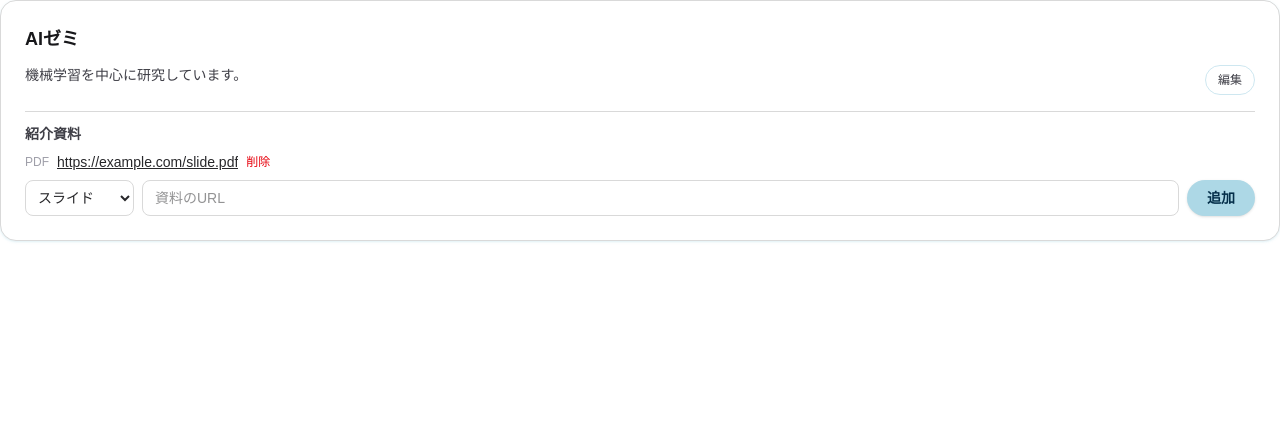
Test: TeacherSeminarView › cancels editing without saving
Click the button "編集": [1230, 80] box [1205,65,1255,95]
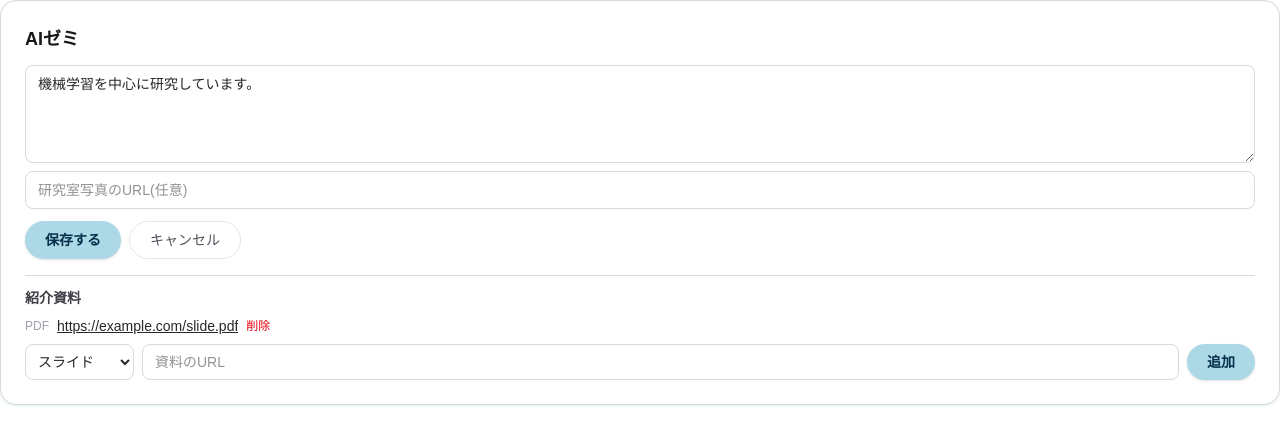
Click the button "キャンセル": [185, 240] box [129,221,241,259]
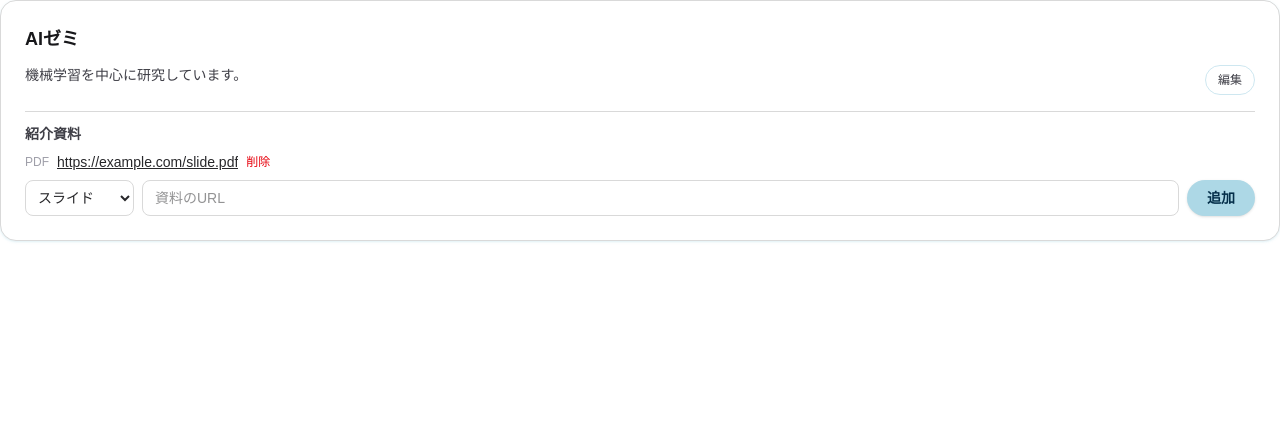
Check: the text "機械学習を中心に研究しています。" is shown, box [25,65,247,85]
